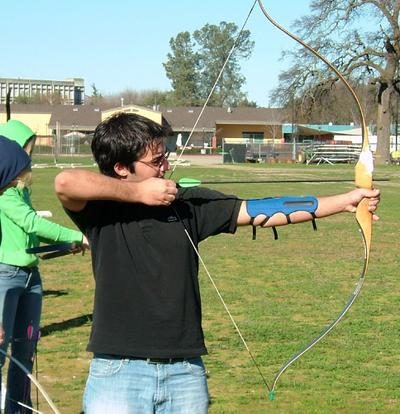person: (55, 112, 386, 413)
